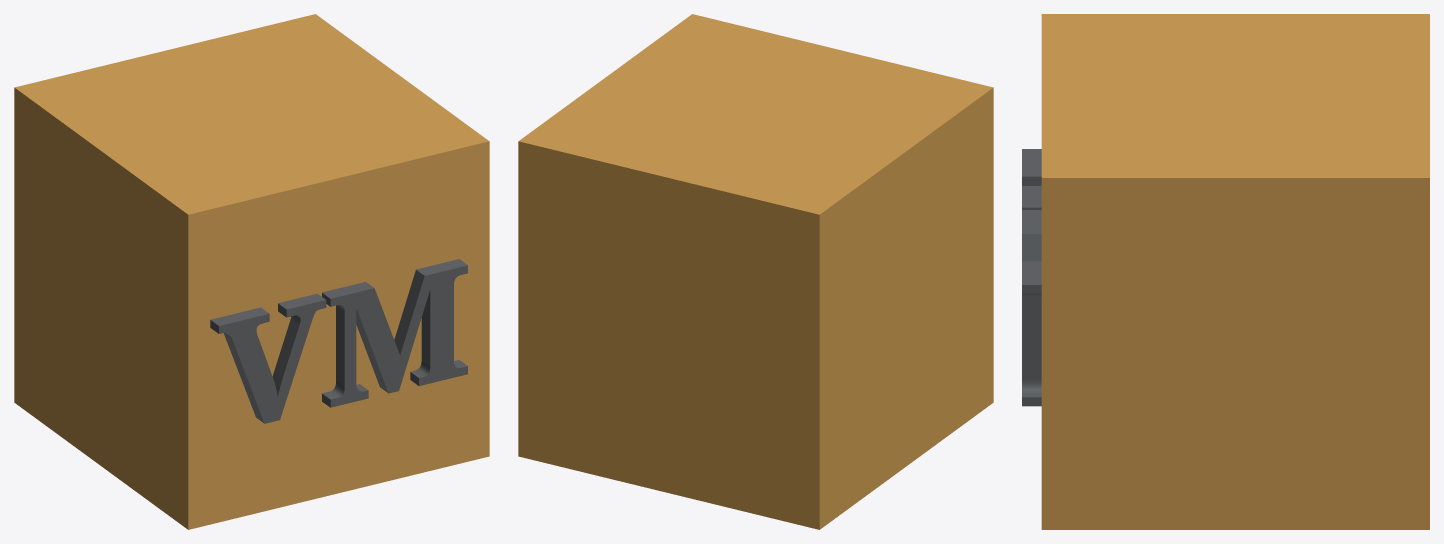
3 views of the same model, side by side, from view 1: azimuth 30°, elevation 25°; view 2: azimuth 150°, elevation 25°; view 3: azimuth 270°, elevation 25° (orthographic). The views are drawn at different scales.
Parts seen in each view (by area): view 1: Mesh_Mesh_head_geo.001_lambert2SG.001; view 2: Mesh_Mesh_head_geo.001_lambert2SG.001; view 3: Mesh_Mesh_head_geo.001_lambert2SG.001.
Part boxes in pixels (<box>): Mesh_Mesh_head_geo.001_lambert2SG.001: <box>14,14,489,529</box>; Mesh_Mesh_head_geo.001_lambert2SG.001: <box>518,14,993,529</box>; Mesh_Mesh_head_geo.001_lambert2SG.001: <box>1022,14,1429,529</box>.
Size of the model in its own units: 20 by 20 by 21.
